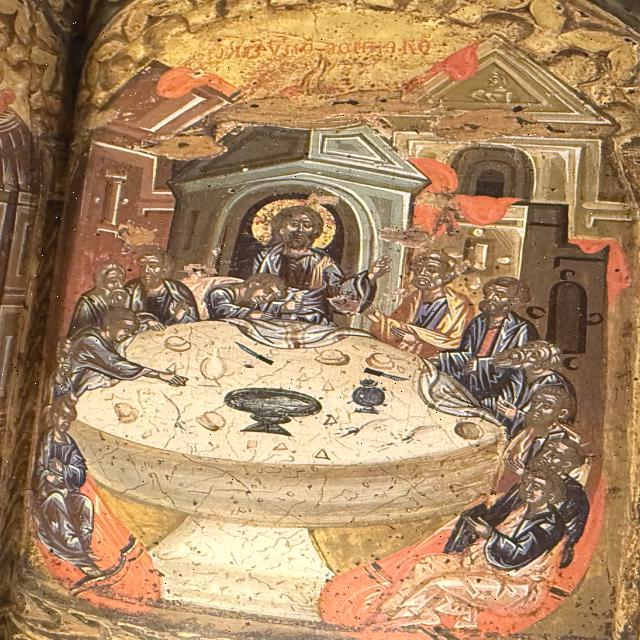aura: (246, 199, 342, 253)
chalice: (233, 385, 319, 439)
christ: (226, 196, 389, 331)
